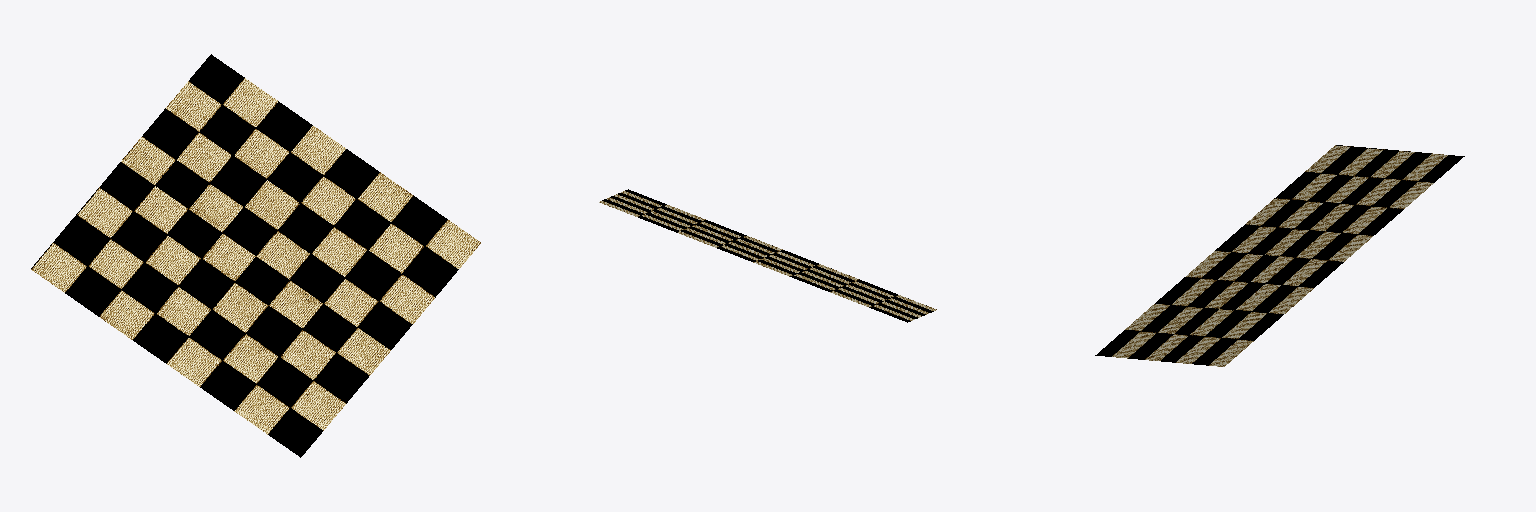
3 views of the same model, side by side, from view 1: azimuth 30°, elevation 25°; view 2: azimuth 150°, elevation 25°; view 3: azimuth 270°, elevation 25° (orthographic).
Size of the model in its own units: 1.6 by 0.9509 by 1.3.
Materials: 1 (1 with a texture image).